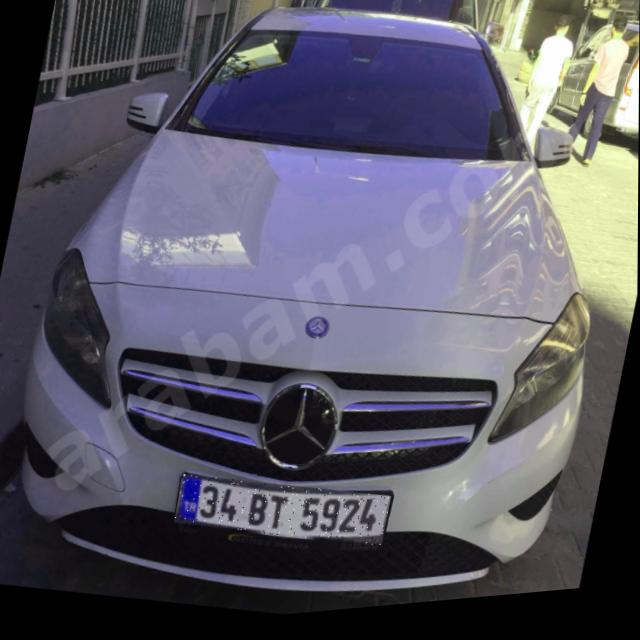license_plate: (174, 463, 392, 569)
